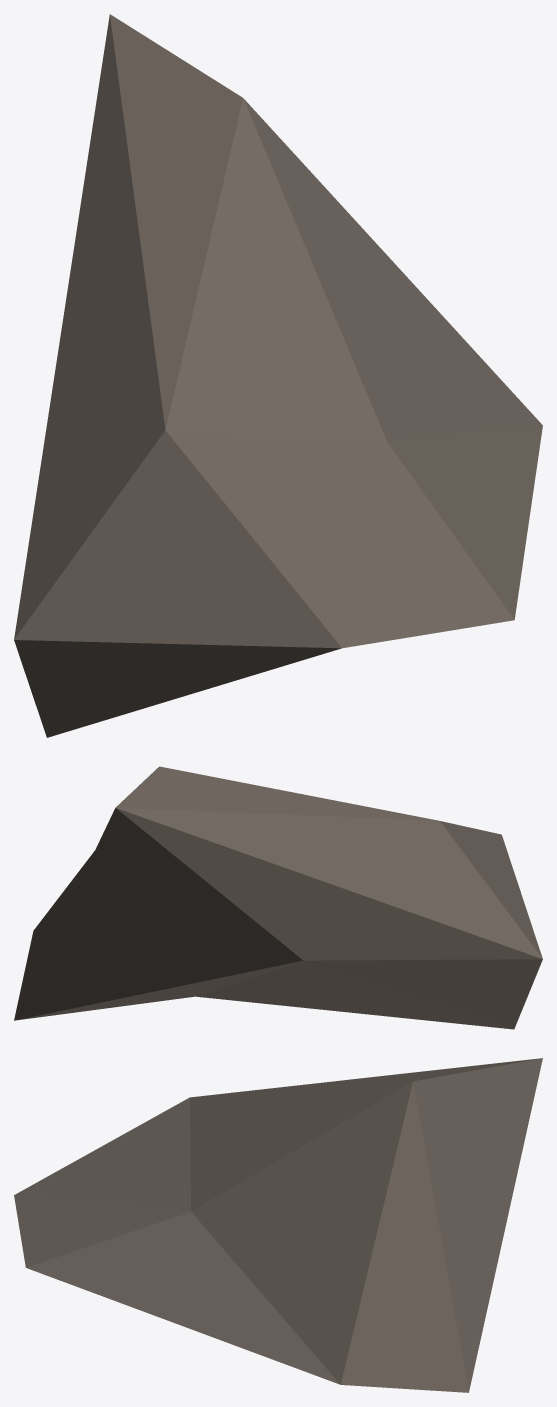
File: Rock.011.fbx
3 views of the same model, one above another, from view 1: azimuth 30°, elevation 25°; view 2: azimuth 150°, elevation 25°; view 3: azimuth 270°, elevation 25° (orthographic). The views are drawn at different scales.
Parts seen in each view (by area): view 1: Rock.011; view 2: Rock.011; view 3: Rock.011.
Boxes of the visible parts, x1,y1,x2,y2 form: Rock.011: (14,14,542,737); Rock.011: (14,766,542,1029); Rock.011: (14,1058,542,1392).
Bounding box in the file's own units: 0.7471 × 0.4944 × 0.8124.
